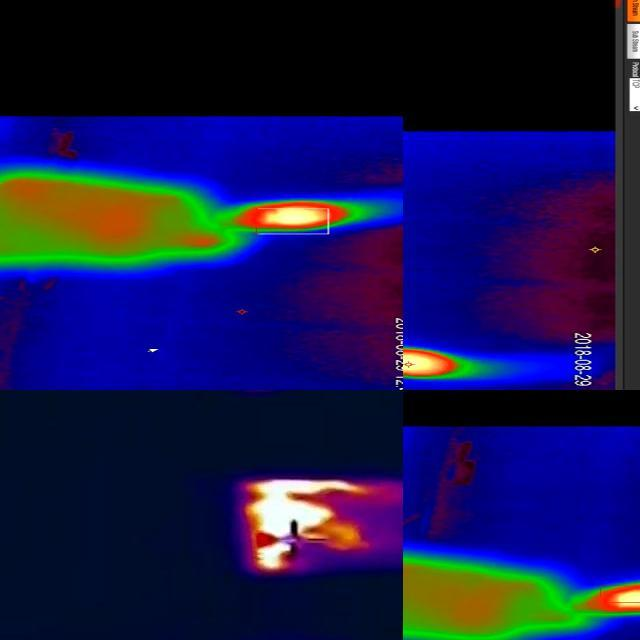fire: (245, 478, 399, 571), (224, 202, 372, 234), (404, 346, 495, 380), (578, 583, 640, 615)
